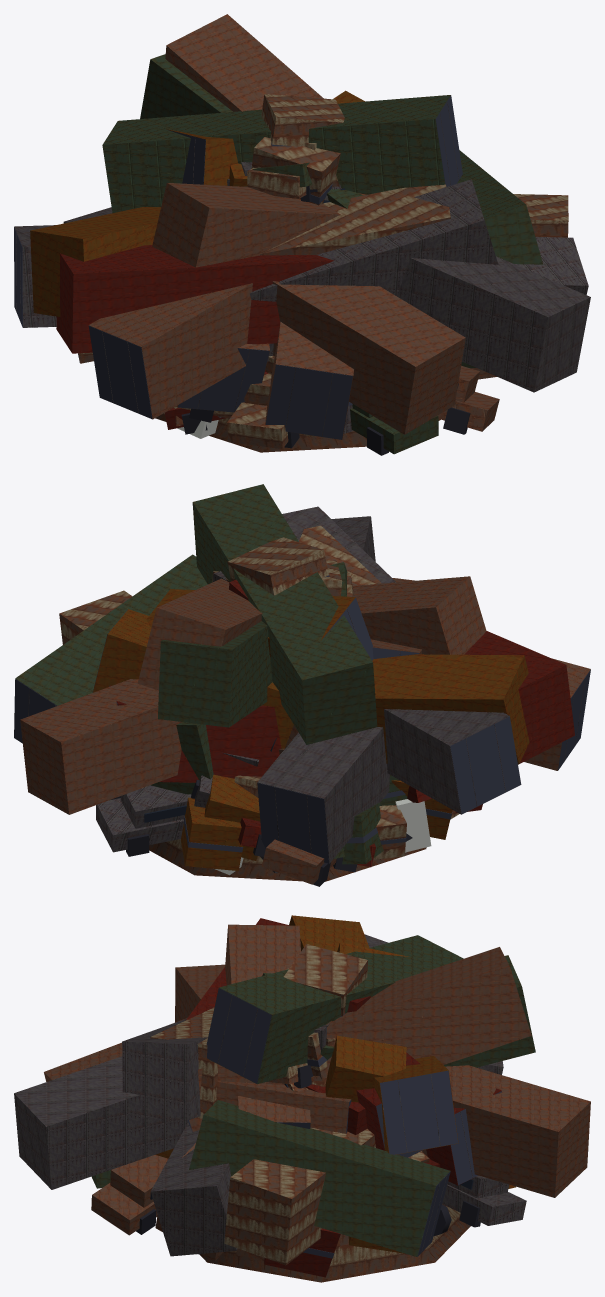
Rendered from scrap_heap_giant.glb.
The picture shows the model from 3 angles, top to bottom: view 1: azimuth 30°, elevation 25°; view 2: azimuth 150°, elevation 25°; view 3: azimuth 270°, elevation 25°; orthographic projection. The views are drawn at different scales.
Visible parts, largest first — view 1: scrap_heap_giant; view 2: scrap_heap_giant; view 3: scrap_heap_giant.
Boxes of the visible parts, x1,y1,x2,y2 form: scrap_heap_giant: (14,14,590,455); scrap_heap_giant: (14,484,590,886); scrap_heap_giant: (14,915,590,1282).
Bounding box in the file's own units: 83.37 × 43.85 × 88.45.
Materials: 10 (6 with a texture image).
